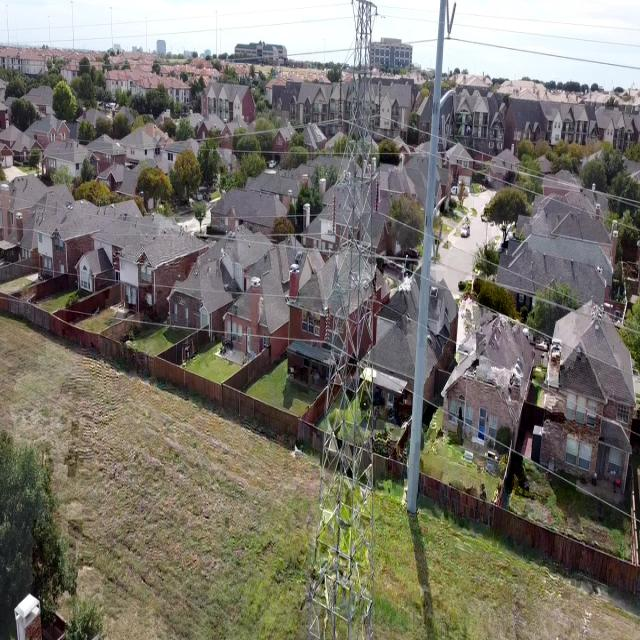杆塔: (300, 0, 384, 640)
正常绝缘子: (337, 73, 345, 124), (376, 70, 384, 121), (330, 190, 338, 237), (324, 304, 332, 348), (374, 174, 381, 215), (372, 261, 378, 303)
